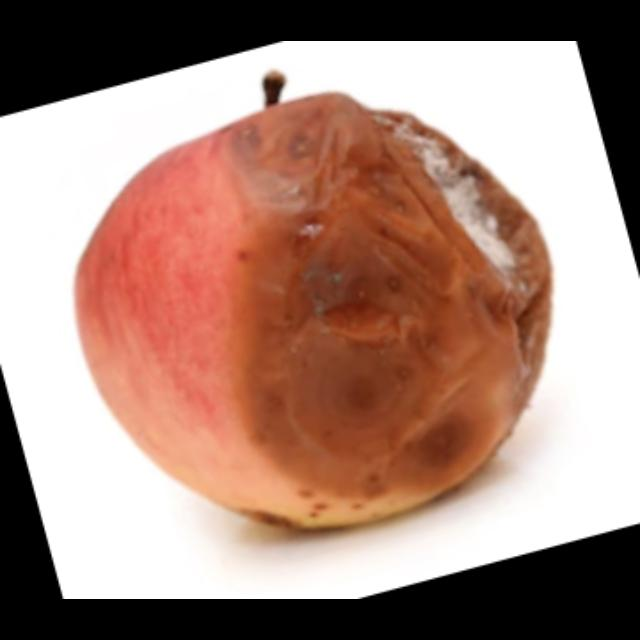Apel Tidak Segar: (69, 87, 556, 524)
